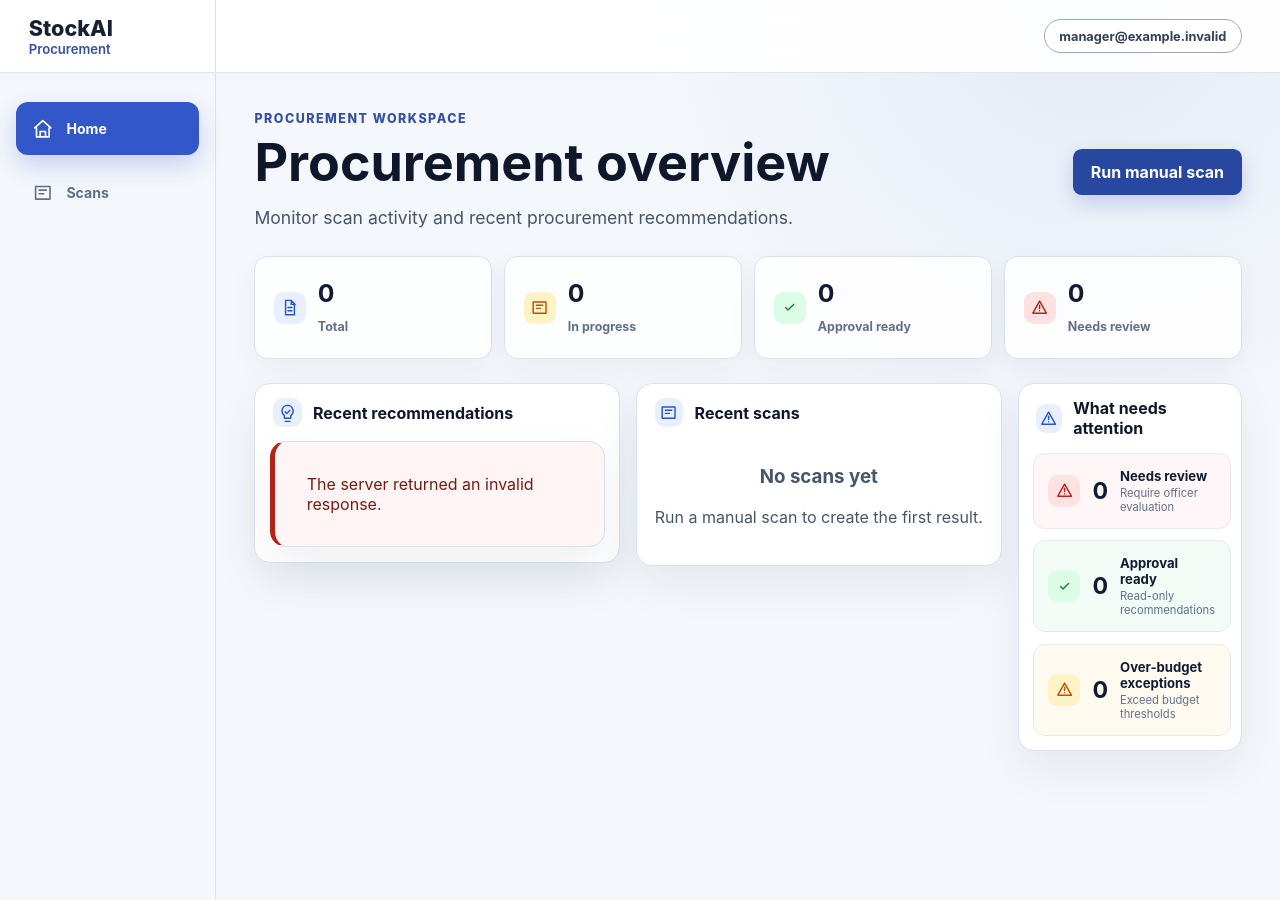
Test: application authentication state › opens a distinct scans workspace from the application navigation
Expected: the heading "Procurement overview" is shown, [254,135,830,191]
Click the button "Scans". click: (108, 193)
box: [16,166,199,219]
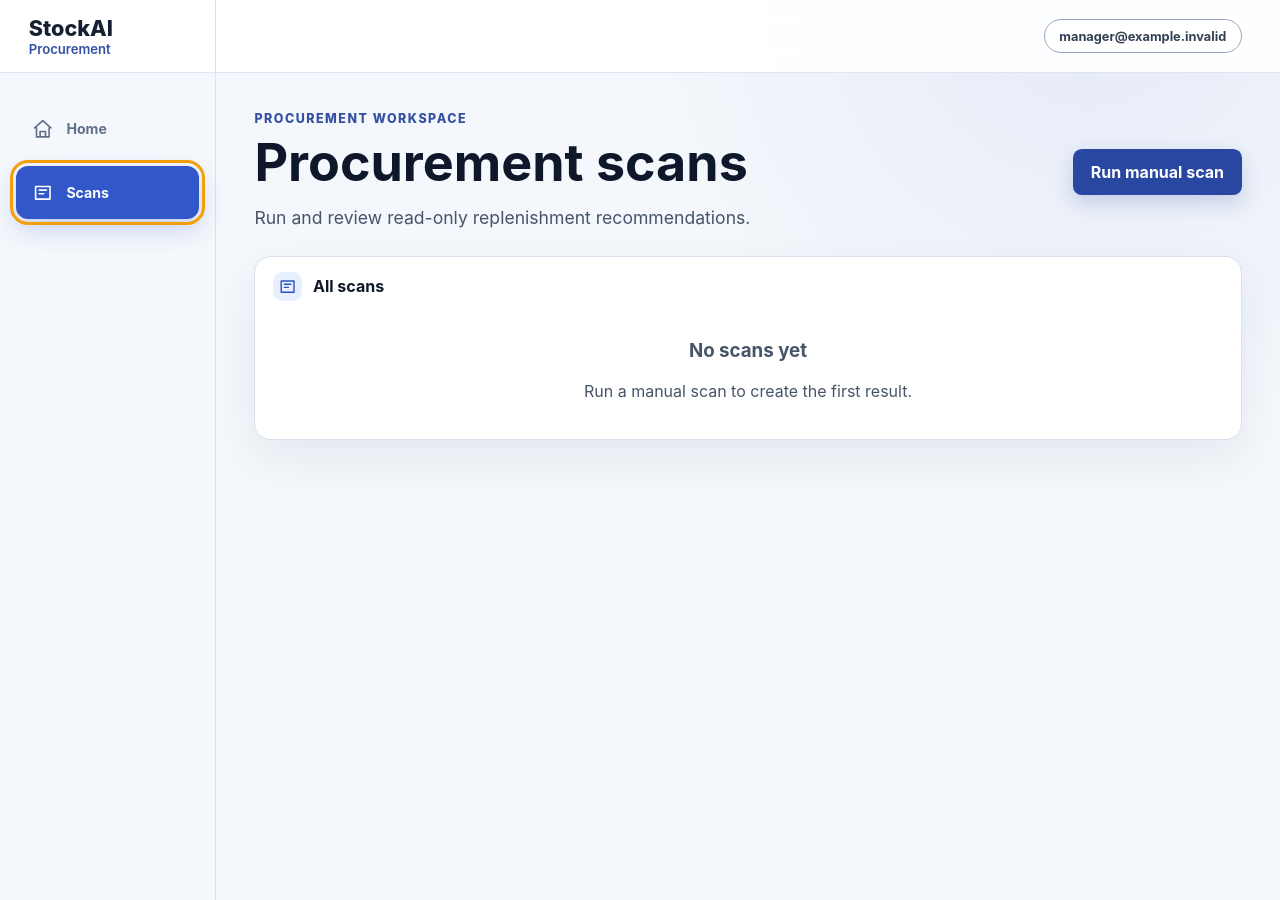
Result: the heading "Procurement scans" is shown at [254,135,750,191]
